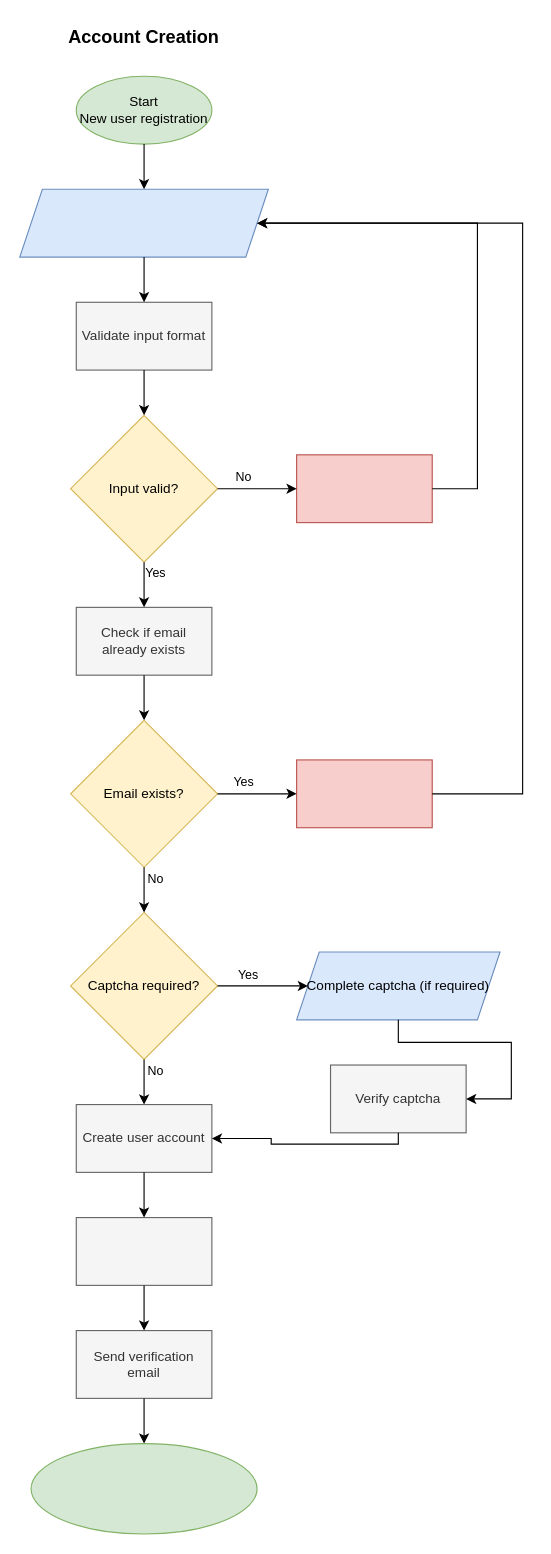
Image size: 551x1554. Some labels were removed from this diagram. Here are the shapes that lost their labels. From the top down, the centre of each, then its label:
At point (143, 222): "Enter email, password, and profile information".
At point (363, 488): "Show validation errors".
At point (363, 793): "Show error message".
At point (143, 1250): "Generate email verification token".
At point (143, 1488): "End Account created, verification email sent".
